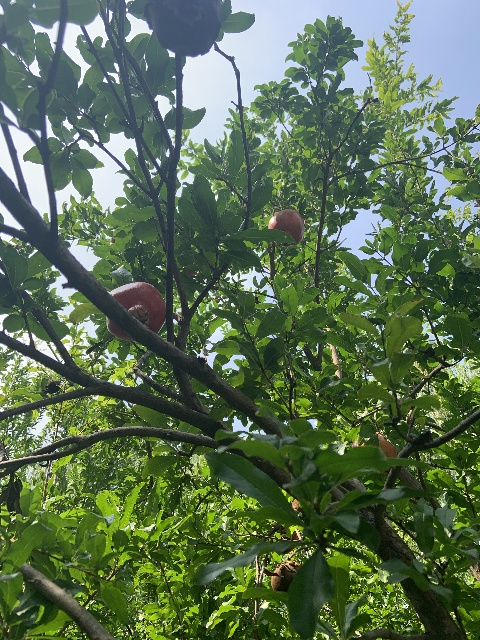ripe: (106, 281, 165, 340), (268, 209, 304, 245), (352, 431, 397, 458)
